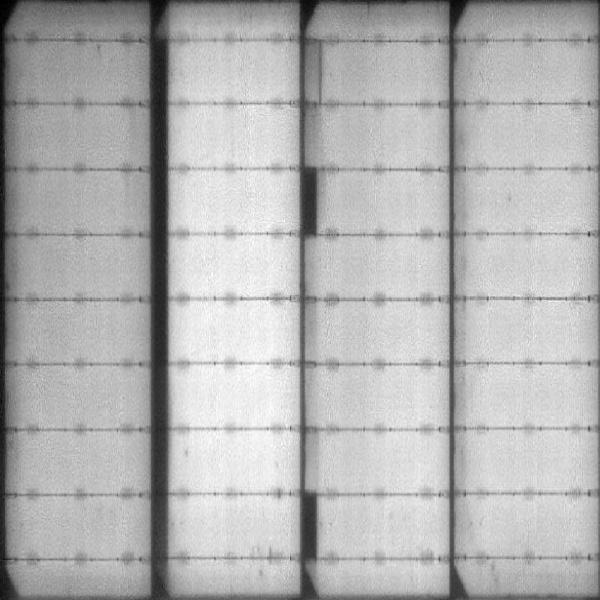black_border: (146, 40, 175, 582), (295, 486, 323, 564), (299, 37, 325, 108), (298, 161, 320, 241)
